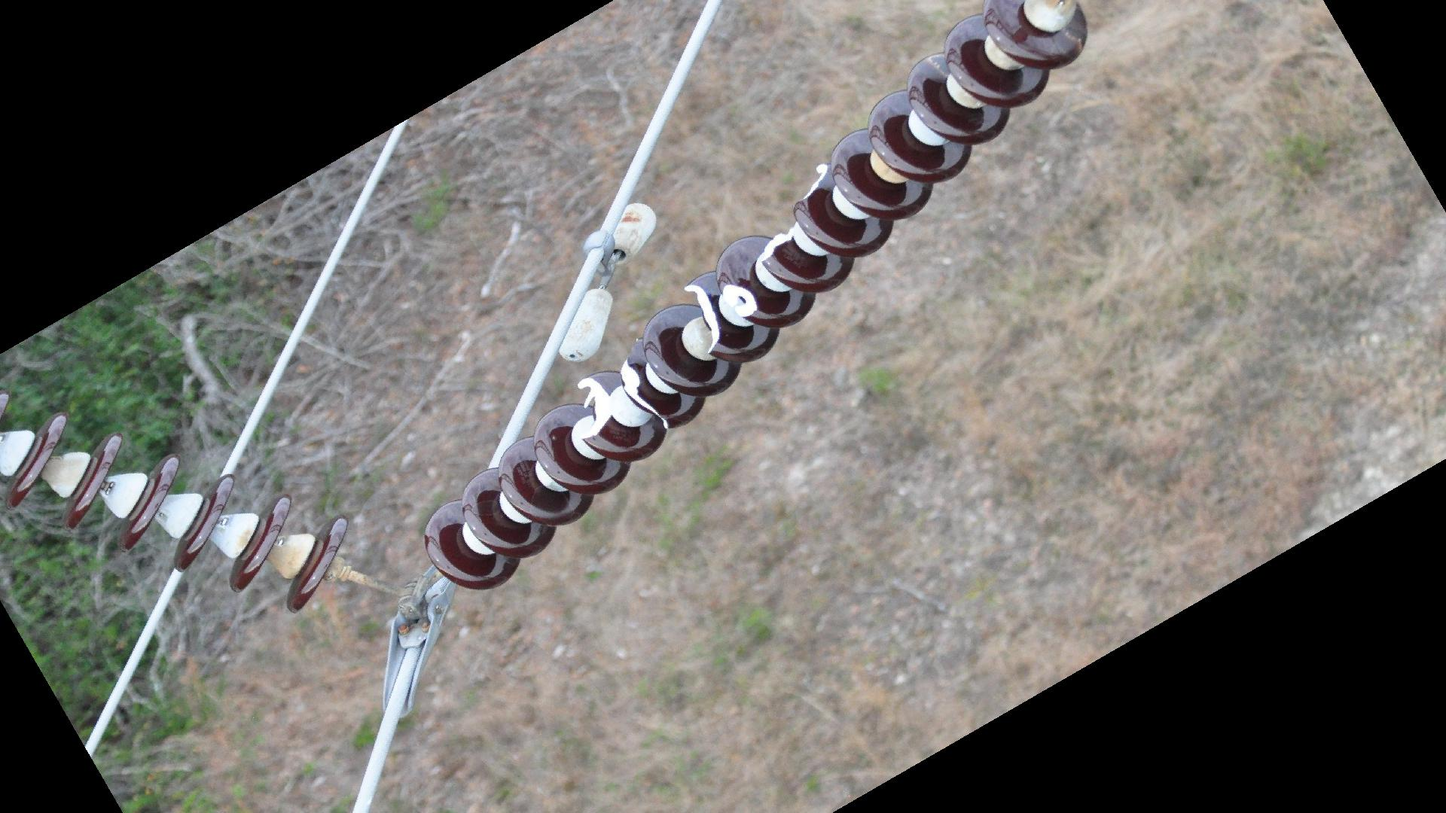insulator: (417, 1, 1094, 593), (1, 384, 357, 620)
insulator_breakage: (618, 335, 675, 432), (680, 280, 723, 358), (572, 373, 614, 445), (789, 160, 830, 215), (755, 224, 795, 268), (721, 279, 762, 321)
